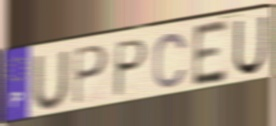C: (152, 31, 189, 91)
E: (192, 17, 229, 90)
P: (73, 43, 110, 108), (112, 37, 150, 100)
U: (31, 47, 71, 111), (232, 14, 269, 78)
